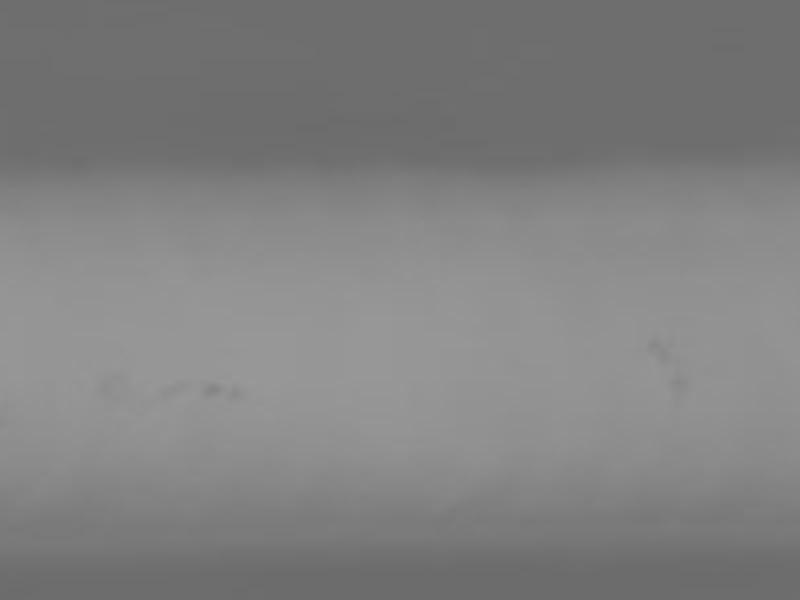defect: (667, 373, 694, 402), (154, 379, 189, 400), (653, 333, 675, 361), (199, 381, 223, 406), (227, 382, 249, 407)
